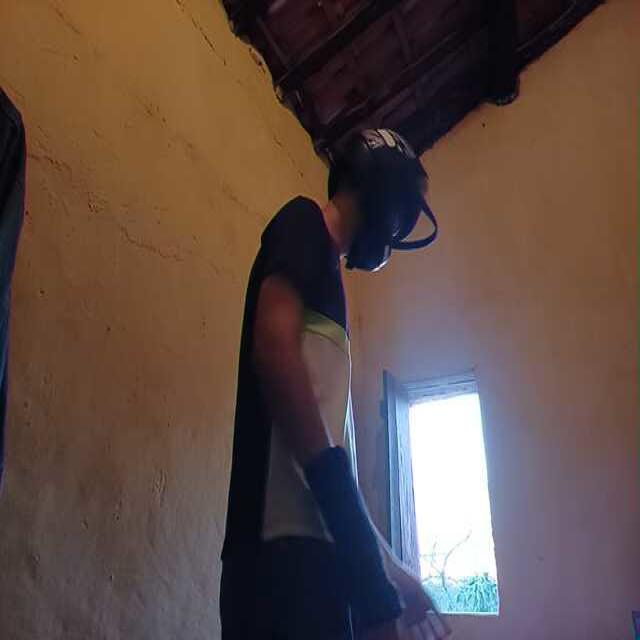capacete: (330, 132, 432, 278)
pessoa: (227, 156, 416, 640)
